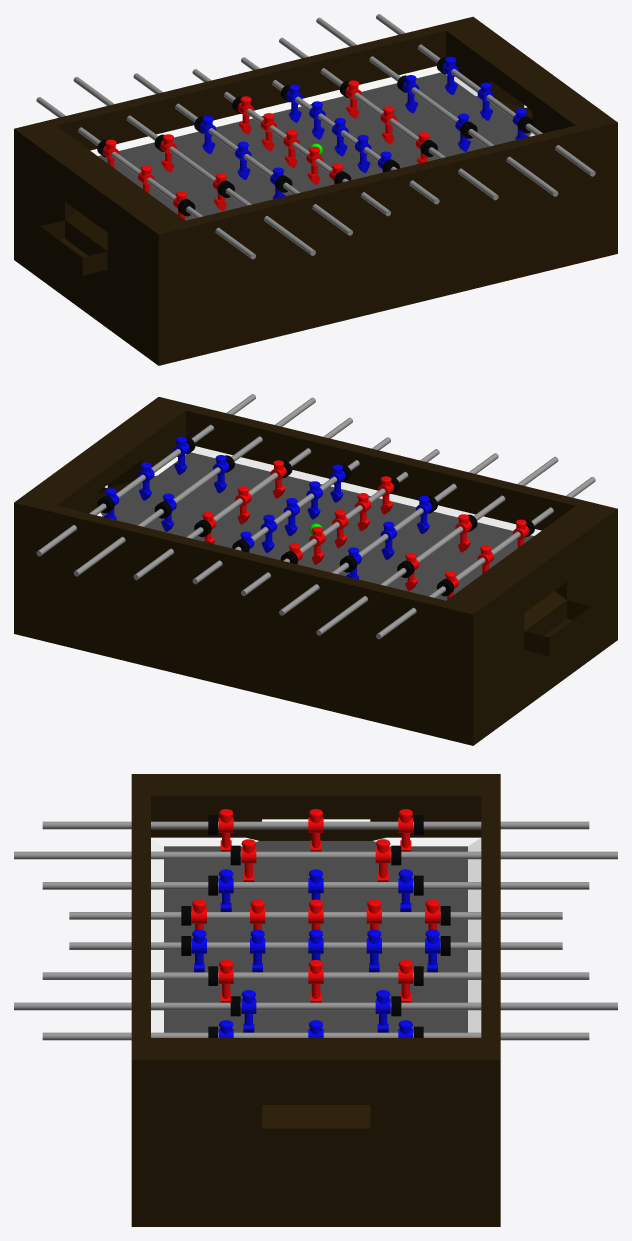
File: Foosball_Table.fbx
3 renders of one model, top to bottom at view 1: azimuth 30°, elevation 25°; view 2: azimuth 150°, elevation 25°; view 3: azimuth 270°, elevation 25°, orthographic. The views are drawn at different scales.
Visible parts, largest first — view 1: Table_Body, Table_Field, Table_Field_Ramps, Blue_Rod_Defence, Red_Rod_Defence, Red_Rod_Attack, Blue_Rod_Attack, Red_Rod_Goalkeeper, Blue_Rod_Goalkeeper, Blue_Rod_Midfield, Red_Rod_Midfield; view 2: Table_Body, Table_Field, Table_Field_Ramps, Blue_Rod_Defence, Red_Rod_Defence, Red_Rod_Attack, Red_Rod_Goalkeeper, Blue_Rod_Goalkeeper, Blue_Rod_Attack, Blue_Rod_Midfield, Red_Rod_Midfield; view 3: Table_Body, Table_Field, Table_Field_Ramps, Blue_Rod_Defence, Red_Rod_Defence, Red_Rod_Goalkeeper, Blue_Rod_Attack, Red_Rod_Attack, Blue_Rod_Goalkeeper, Blue_Rod_Midfield, Red_Rod_Midfield.
Boxes of the visible parts, <box> form: Table_Body: <box>14,16,617,365</box>; Table_Field: <box>98,72,531,220</box>; Table_Field_Ramps: <box>90,66,534,155</box>; Blue_Rod_Defence: <box>316,17,558,196</box>; Red_Rod_Defence: <box>73,77,315,255</box>; Red_Rod_Attack: <box>279,37,498,200</box>; Blue_Rod_Attack: <box>133,73,352,235</box>; Red_Rod_Goalkeeper: <box>36,97,255,259</box>; Blue_Rod_Goalkeeper: <box>376,14,595,176</box>; Blue_Rod_Midfield: <box>241,57,439,204</box>; Red_Rod_Midfield: <box>192,69,390,216</box>; Table_Body: <box>14,397,617,745</box>; Table_Field: <box>100,452,533,600</box>; Table_Field_Ramps: <box>97,446,541,535</box>; Blue_Rod_Defence: <box>73,397,315,576</box>; Red_Rod_Defence: <box>316,456,558,635</box>; Red_Rod_Attack: <box>133,417,352,580</box>; Red_Rod_Goalkeeper: <box>376,477,595,639</box>; Blue_Rod_Goalkeeper: <box>36,394,255,556</box>; Blue_Rod_Attack: <box>279,453,498,615</box>; Blue_Rod_Midfield: <box>192,437,390,584</box>; Red_Rod_Midfield: <box>241,449,439,596</box>; Table_Body: <box>131,774,500,1226</box>; Table_Field: <box>164,841,467,1032</box>; Table_Field_Ramps: <box>151,837,481,1032</box>; Blue_Rod_Defence: <box>14,1002,617,1010</box>; Red_Rod_Defence: <box>14,851,617,859</box>; Red_Rod_Goalkeeper: <box>42,821,589,829</box>; Blue_Rod_Attack: <box>42,882,589,889</box>; Red_Rod_Attack: <box>42,972,589,979</box>; Blue_Rod_Goalkeeper: <box>42,1032,589,1040</box>; Blue_Rod_Midfield: <box>69,942,562,949</box>; Red_Rod_Midfield: <box>69,912,562,919</box>.
Bounding box in the file's own units: 155 × 38.18 × 125.
